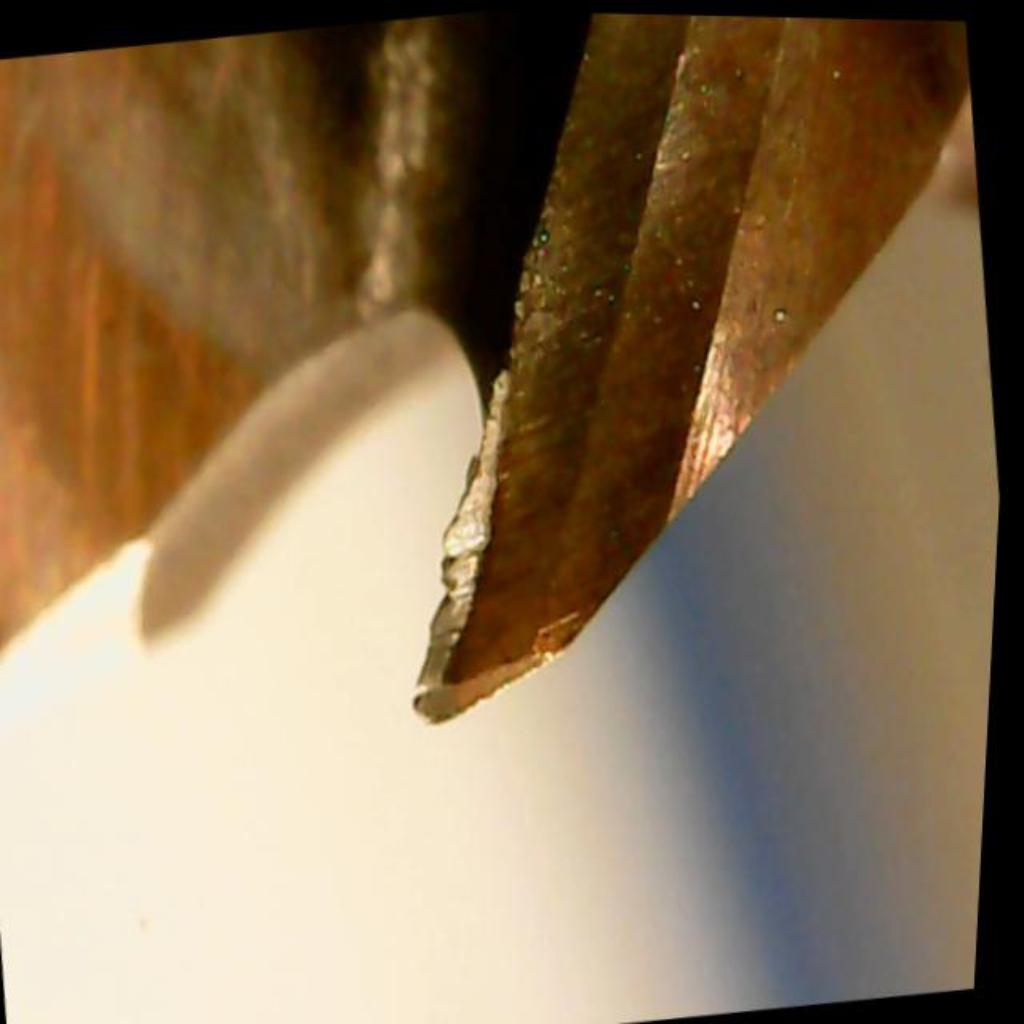Tool-wear-class-2: (364, 292, 713, 750)
